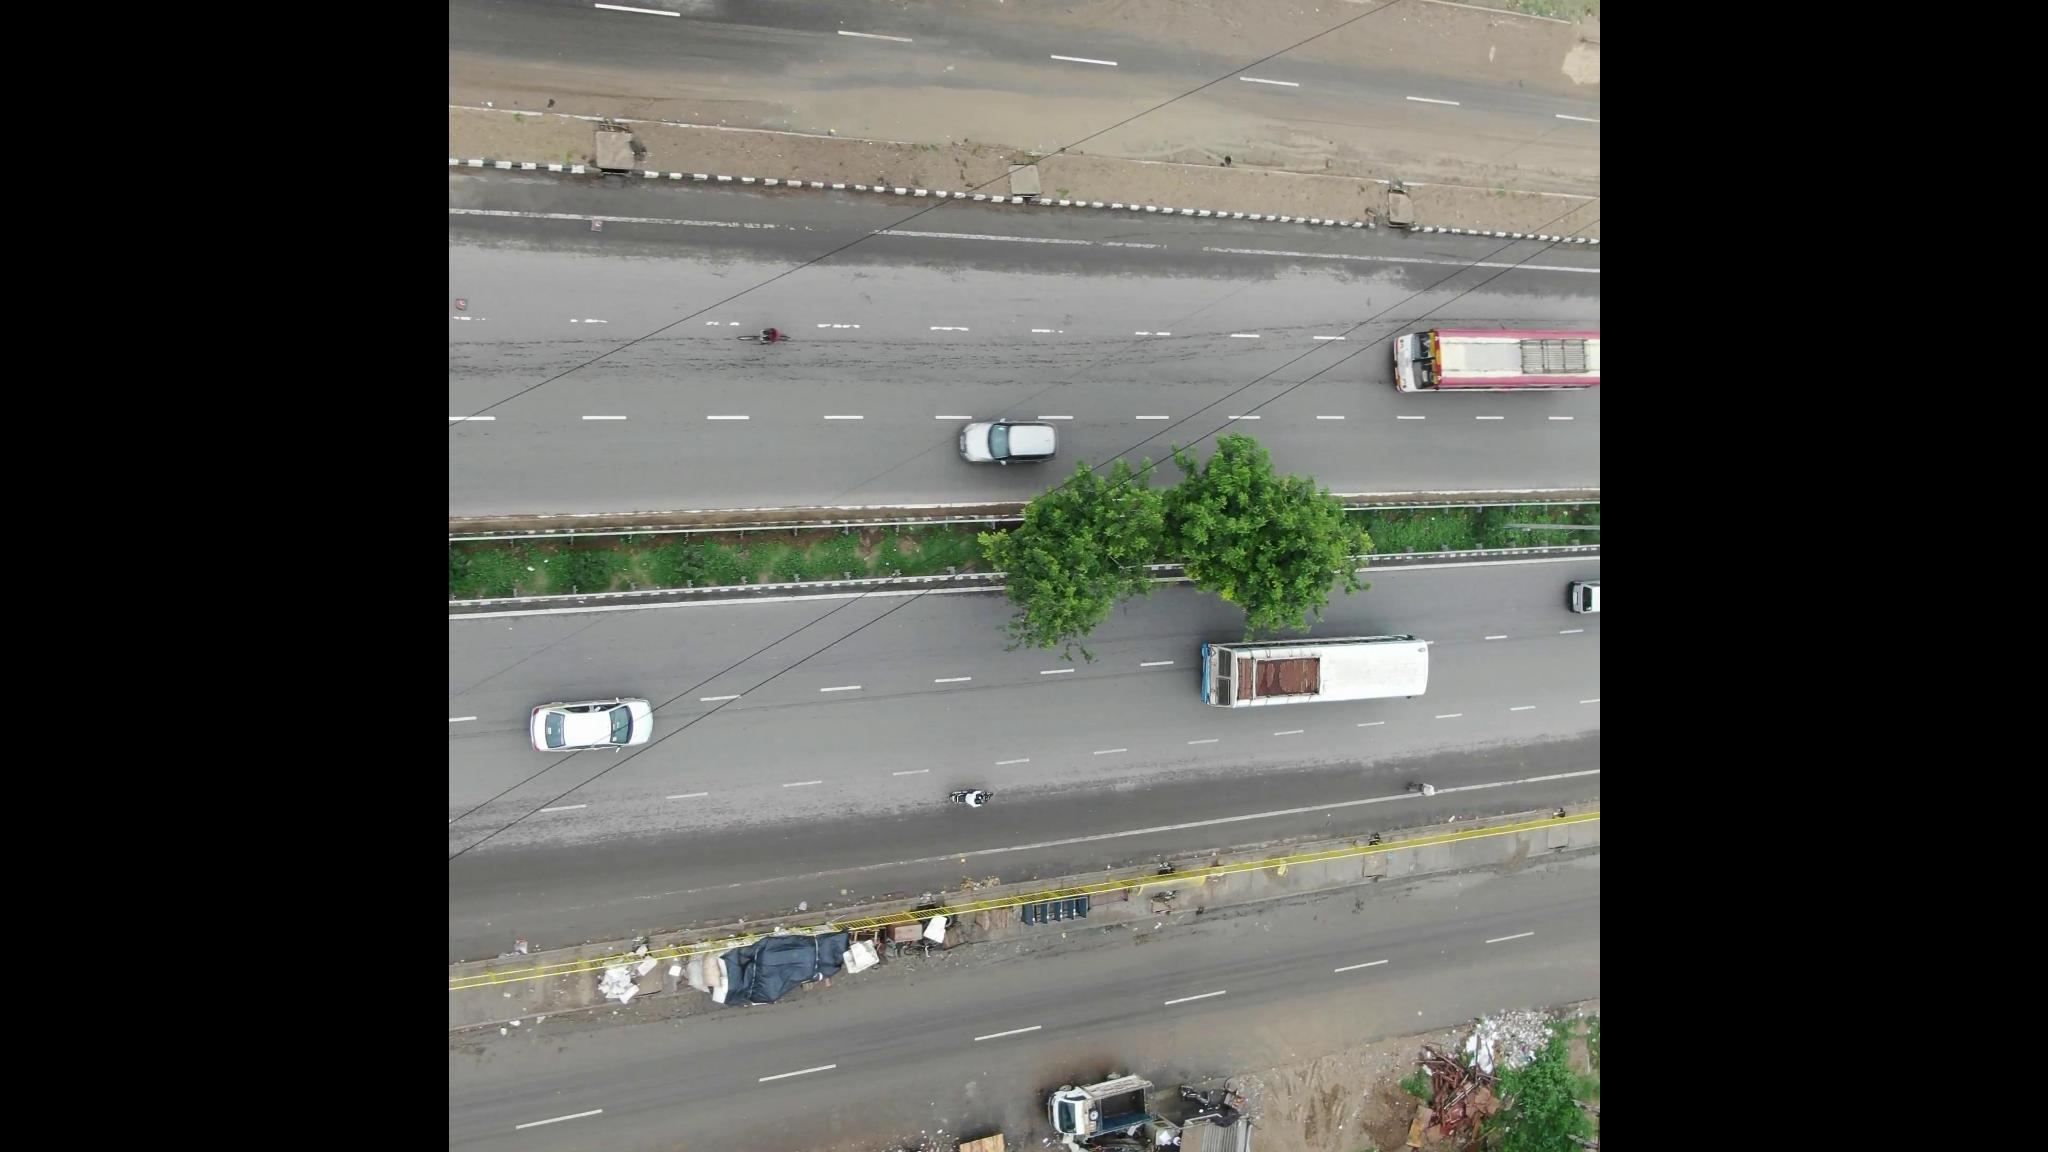Muddy_road: (978, 82, 1295, 160), (1312, 105, 1564, 194), (692, 75, 935, 138), (471, 59, 672, 115)
